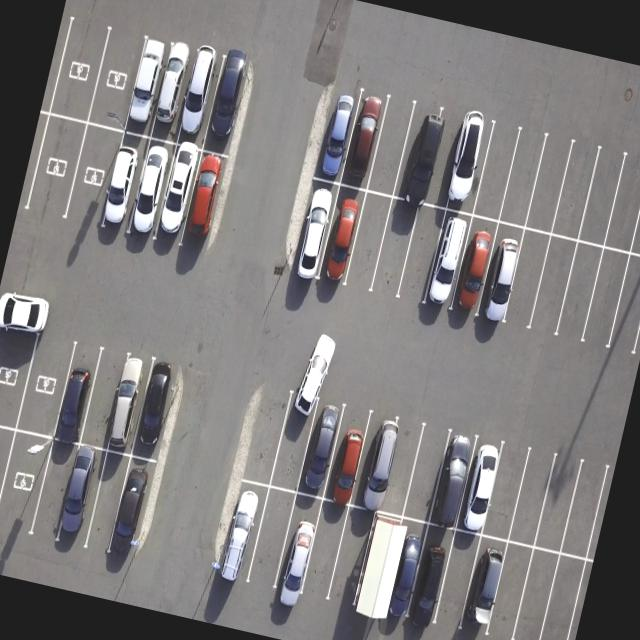car: (362, 516, 429, 634), (213, 477, 272, 592), (269, 488, 329, 600), (176, 148, 238, 256), (90, 350, 152, 458), (106, 456, 166, 566), (402, 521, 462, 629), (472, 222, 530, 331), (92, 128, 149, 238), (54, 443, 111, 552), (443, 212, 500, 321), (314, 184, 372, 291), (392, 101, 452, 204), (456, 532, 514, 638), (149, 141, 205, 250), (124, 136, 180, 244), (129, 358, 186, 464), (318, 402, 376, 506), (48, 339, 104, 446), (348, 414, 406, 517), (450, 437, 508, 539), (268, 392, 324, 496), (424, 430, 482, 530), (420, 208, 474, 314), (290, 178, 343, 286), (292, 397, 348, 499), (339, 90, 392, 194), (381, 521, 433, 626), (440, 118, 494, 218), (170, 48, 222, 150), (201, 56, 253, 158), (119, 35, 169, 137), (314, 85, 364, 186), (149, 44, 198, 144)
free: (14, 324, 80, 438), (62, 120, 126, 236), (23, 112, 87, 226), (242, 486, 302, 600), (46, 14, 108, 124), (345, 511, 405, 622), (78, 346, 140, 453), (425, 528, 485, 637), (86, 26, 146, 133), (294, 500, 352, 608), (236, 382, 294, 490), (552, 236, 608, 344), (498, 226, 554, 334), (478, 540, 538, 640), (527, 233, 583, 339), (0, 428, 54, 537), (577, 245, 632, 352), (504, 445, 560, 549), (558, 458, 614, 562), (26, 438, 80, 544), (396, 424, 452, 526), (395, 203, 450, 306), (80, 450, 132, 557), (372, 420, 428, 519), (323, 507, 377, 609), (342, 192, 395, 295), (365, 95, 419, 196), (550, 140, 604, 241), (531, 450, 581, 558), (478, 440, 530, 543), (575, 146, 628, 246), (368, 194, 420, 295), (496, 128, 548, 228), (520, 136, 572, 236), (468, 124, 519, 223), (534, 553, 592, 640), (511, 545, 560, 640), (598, 151, 640, 252), (606, 252, 640, 361), (0, 331, 34, 430), (0, 420, 13, 533), (628, 159, 640, 262)
